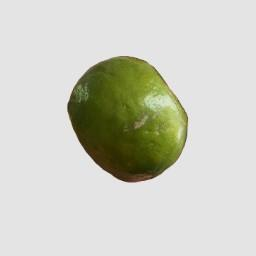Unripe: (68, 55, 187, 181)
